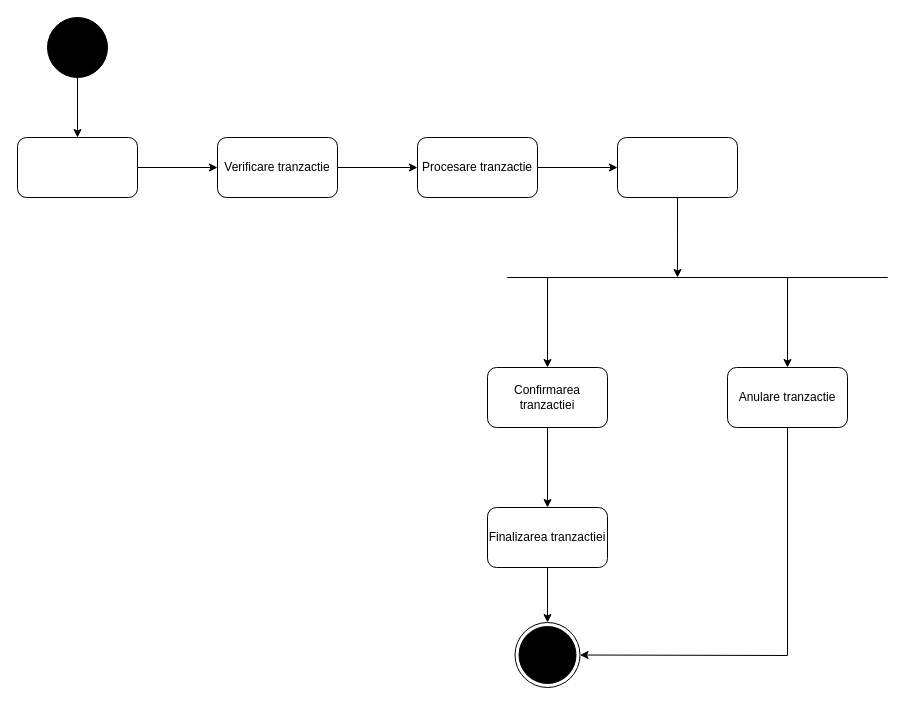
This 922x705 diagram has some shape labels left out. The centre of each missing label's shape, as x and y in pixels:
Initializare tranzactie: point (77, 167)
Tranzactie in curs de asteptare: point (677, 167)
